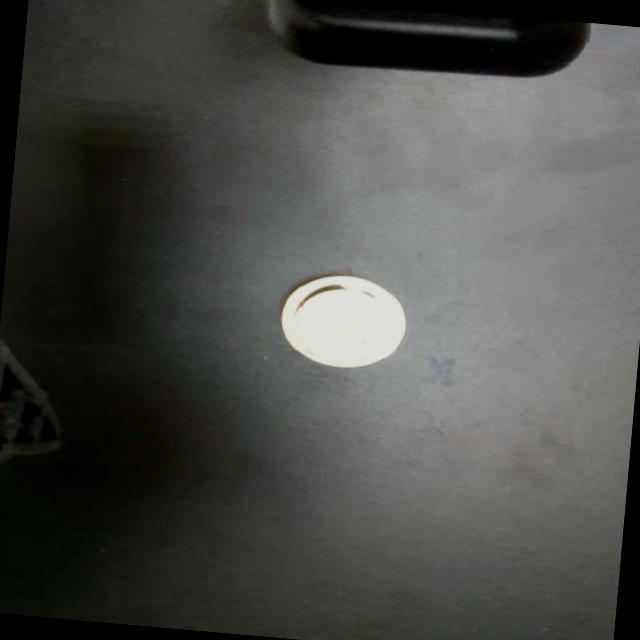sensor: (276, 268, 412, 374)
